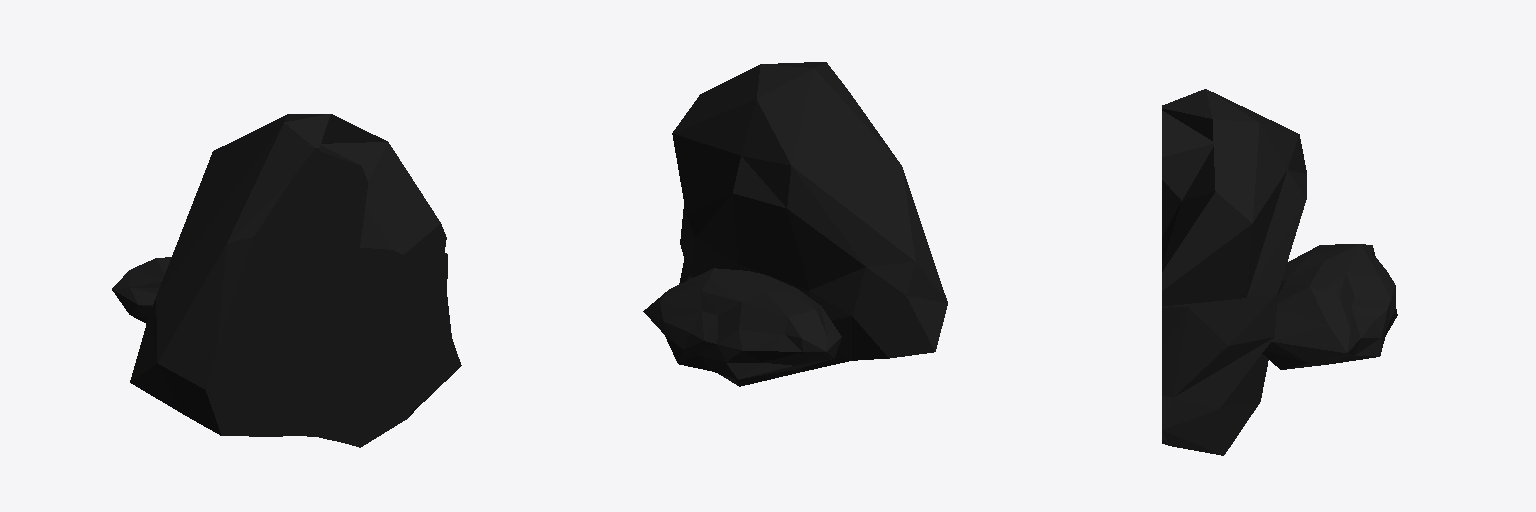
Rendered from arbol3.obj.
3 renders of one model, left to right at view 1: azimuth 30°, elevation 25°; view 2: azimuth 150°, elevation 25°; view 3: azimuth 270°, elevation 25°, orthographic.
Visible parts, largest first — view 1: Icosphere.028, Icosphere.008; view 2: Icosphere.028, Icosphere.008; view 3: Icosphere.028, Icosphere.008.
Boxes of the visible parts, x1=… form: Icosphere.028: x1=130, y1=114, x2=461, y2=447; Icosphere.008: x1=112, y1=257, x2=171, y2=323; Icosphere.028: x1=672, y1=62, x2=947, y2=386; Icosphere.008: x1=643, y1=268, x2=841, y2=379; Icosphere.028: x1=1162, y1=89, x2=1306, y2=455; Icosphere.008: x1=1262, y1=244, x2=1397, y2=369.
Bounding box in the file's own units: 6.39 × 6.78 × 4.44.